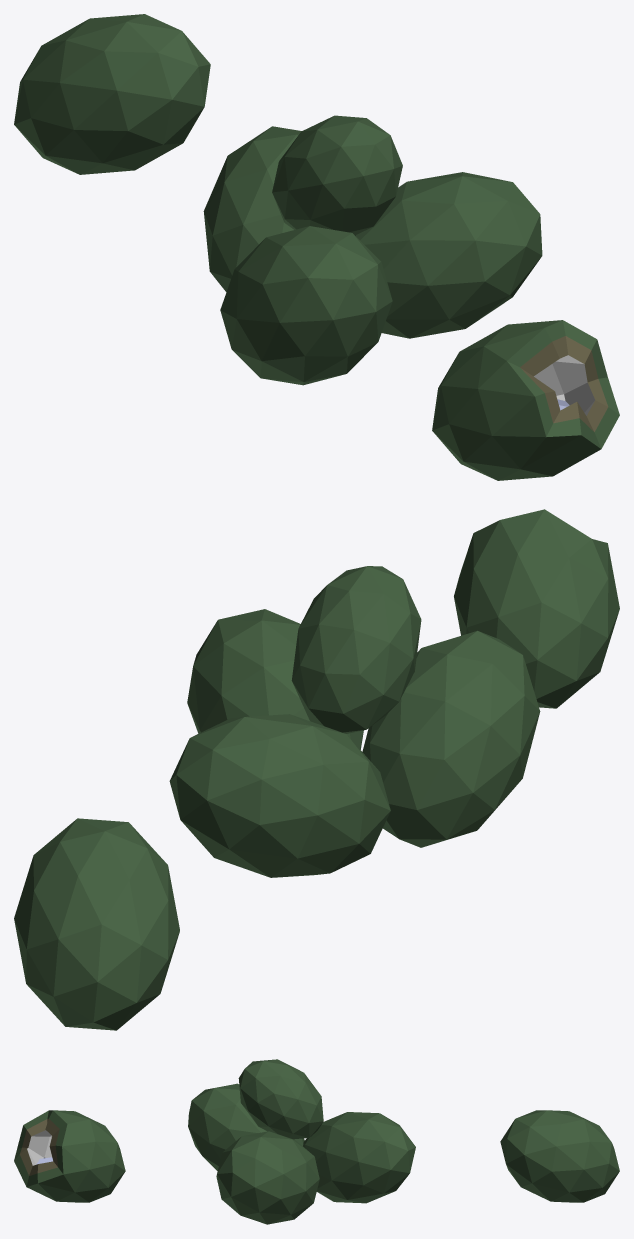
Rendered from Coconuts.fbx.
3 renders of one model, top to bottom at view 1: azimuth 30°, elevation 25°; view 2: azimuth 150°, elevation 25°; view 3: azimuth 270°, elevation 25°, orthographic. The views are drawn at different scales.
Parts seen in each view (by area): view 1: CoconutGroup, Coconut, CoconutOpen; view 2: CoconutGroup, Coconut, CoconutOpen; view 3: CoconutGroup, Coconut, CoconutOpen.
Boxes of the visible parts, left/top/right/bottom form: CoconutGroup: left=203, top=115, right=542, bottom=385; Coconut: left=14, top=14, right=210, bottom=174; CoconutOpen: left=432, top=320, right=619, bottom=480; CoconutGroup: left=169, top=566, right=540, bottom=877; Coconut: left=14, top=818, right=179, bottom=1030; CoconutOpen: left=454, top=509, right=619, bottom=708; CoconutGroup: left=188, top=1059, right=415, bottom=1224; Coconut: left=500, top=1110, right=619, bottom=1202; CoconutOpen: left=14, top=1110, right=125, bottom=1202.
Bounding box in the file's own units: 0.4408 × 0.3353 × 1.29.
